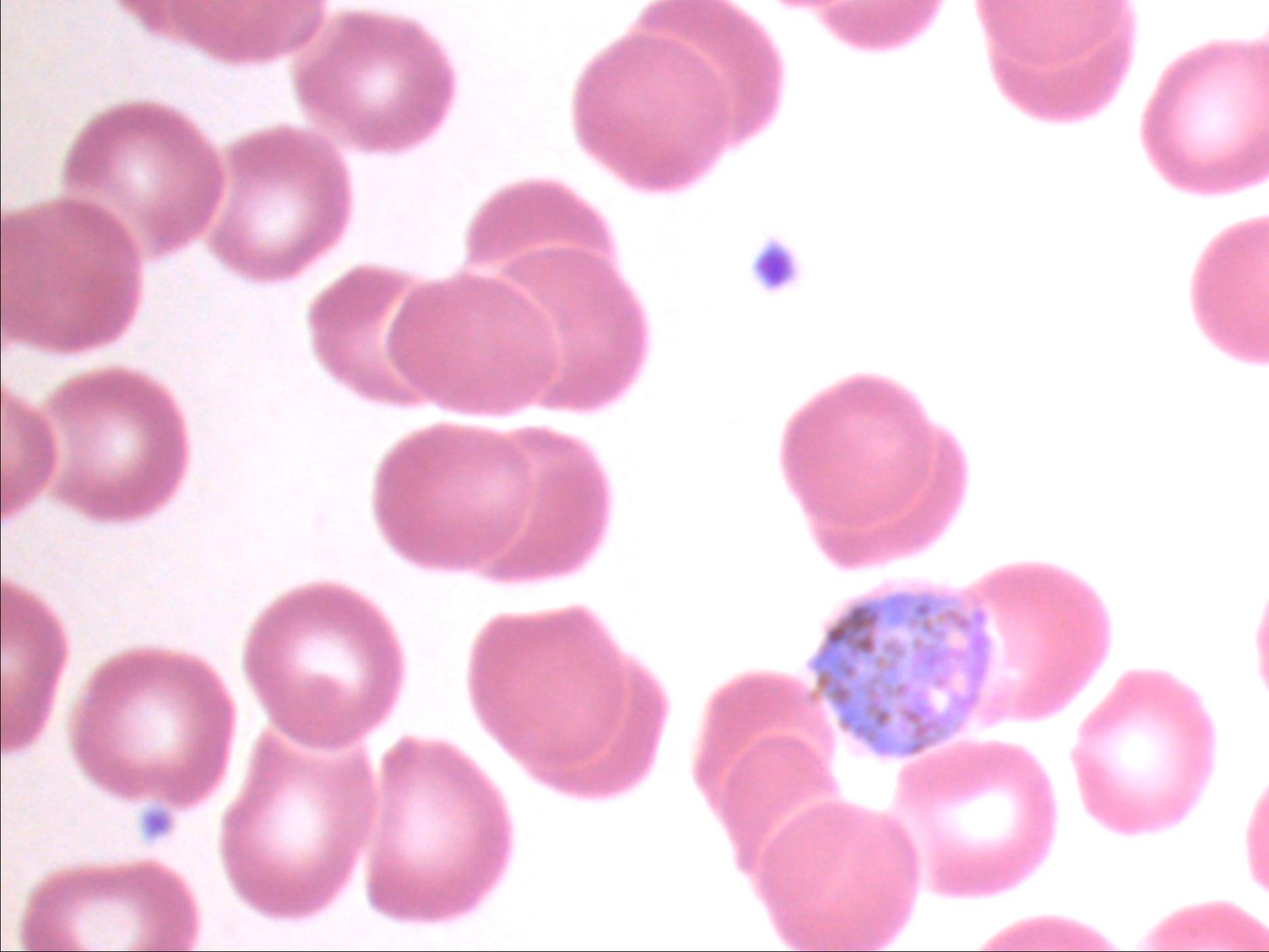Infected: (804, 577, 1006, 760)
Uninfected: (376, 421, 604, 581), (470, 608, 662, 796), (221, 731, 377, 918), (483, 242, 644, 411), (696, 676, 839, 865), (243, 583, 402, 749), (367, 739, 512, 921), (388, 268, 563, 418), (73, 647, 233, 809), (894, 741, 1056, 898), (63, 100, 225, 257), (754, 799, 921, 951), (963, 558, 1112, 723), (582, 32, 738, 189), (782, 373, 940, 527), (1074, 672, 1214, 835), (40, 368, 188, 520), (5, 197, 145, 355), (296, 10, 452, 151), (210, 127, 351, 276), (1143, 38, 1269, 189), (311, 265, 431, 406), (465, 178, 614, 266)
